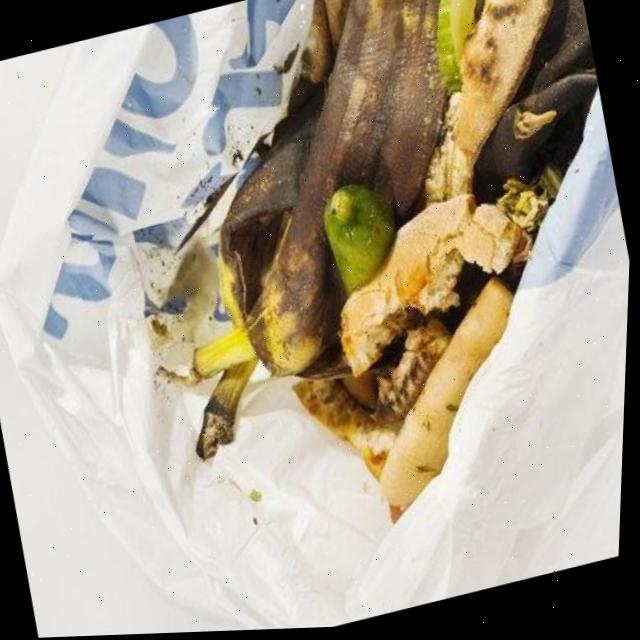Wet: (103, 0, 640, 564)
